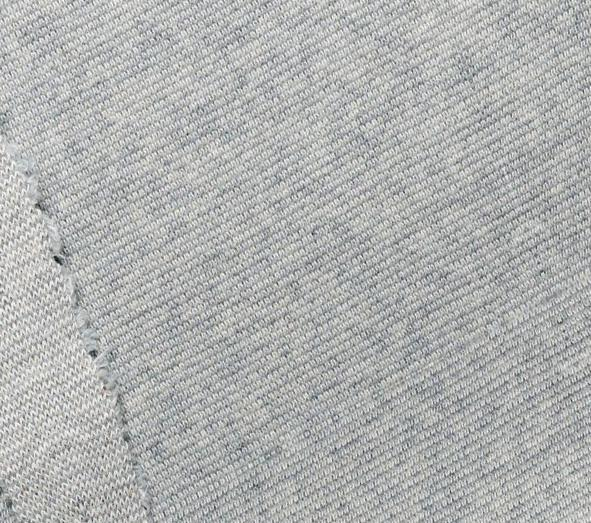slub: (1, 113, 174, 523)
